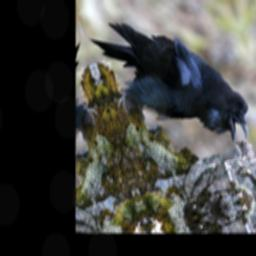Crow: (85, 0, 256, 178)
